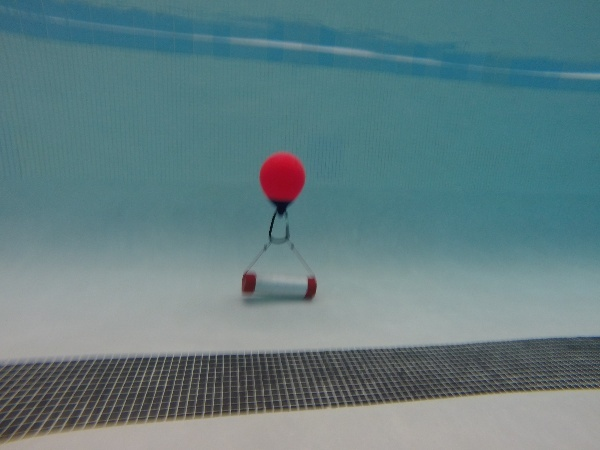buoy_red: (254, 151, 310, 218)
